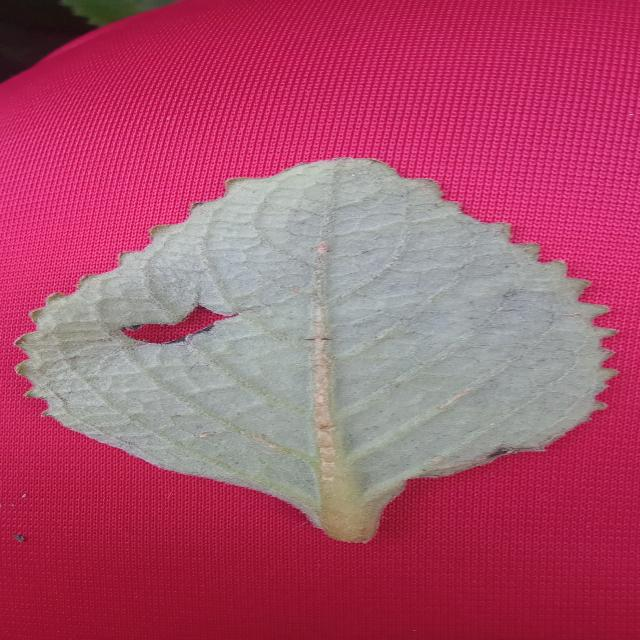Oregano: (39, 144, 629, 556)
